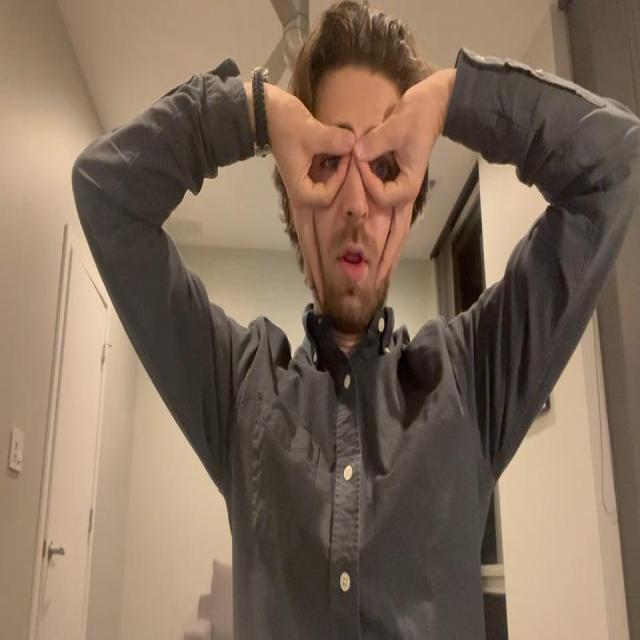face: (304, 67, 409, 332)
